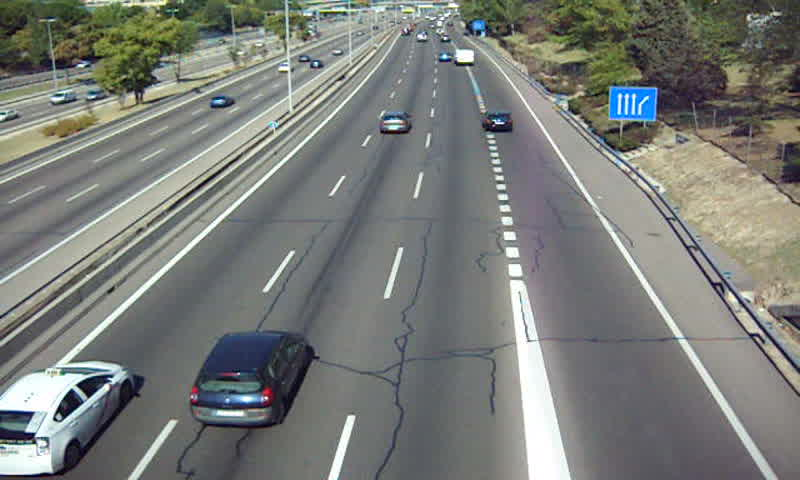car: (1, 361, 133, 476), (190, 332, 310, 426), (379, 108, 412, 133), (480, 110, 514, 132)
van: (452, 50, 476, 65)
